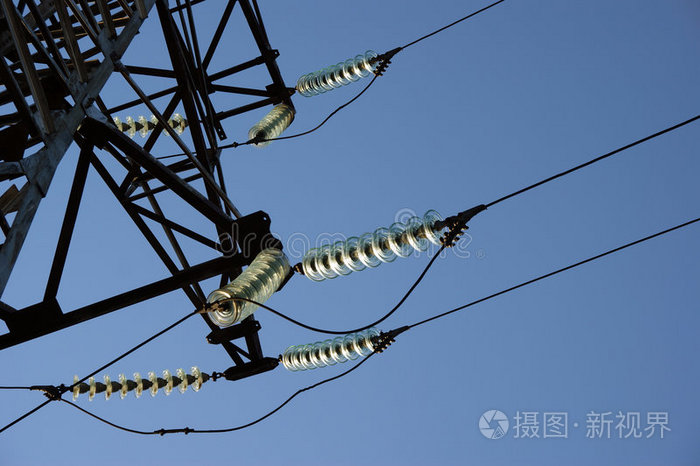insulator: (303, 207, 449, 280), (210, 249, 290, 325), (72, 365, 205, 403), (283, 327, 381, 371), (297, 50, 379, 98), (115, 111, 187, 139), (252, 103, 293, 146)
